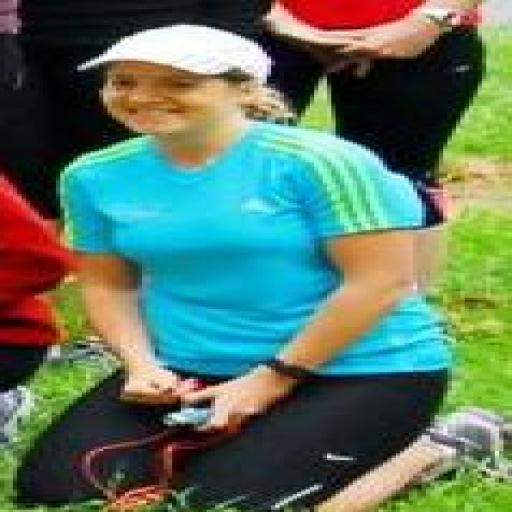person: (18, 25, 451, 509), (267, 0, 486, 286), (0, 0, 271, 218), (0, 176, 73, 444)
